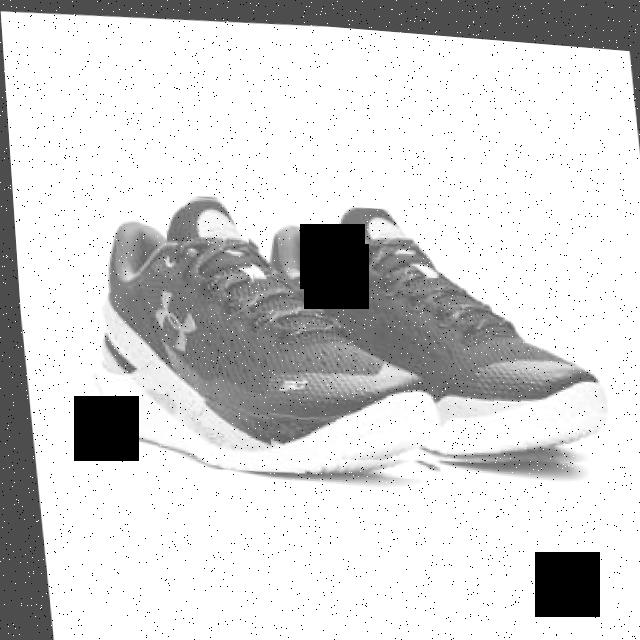shoe: (66, 176, 440, 485), (241, 186, 610, 477)
